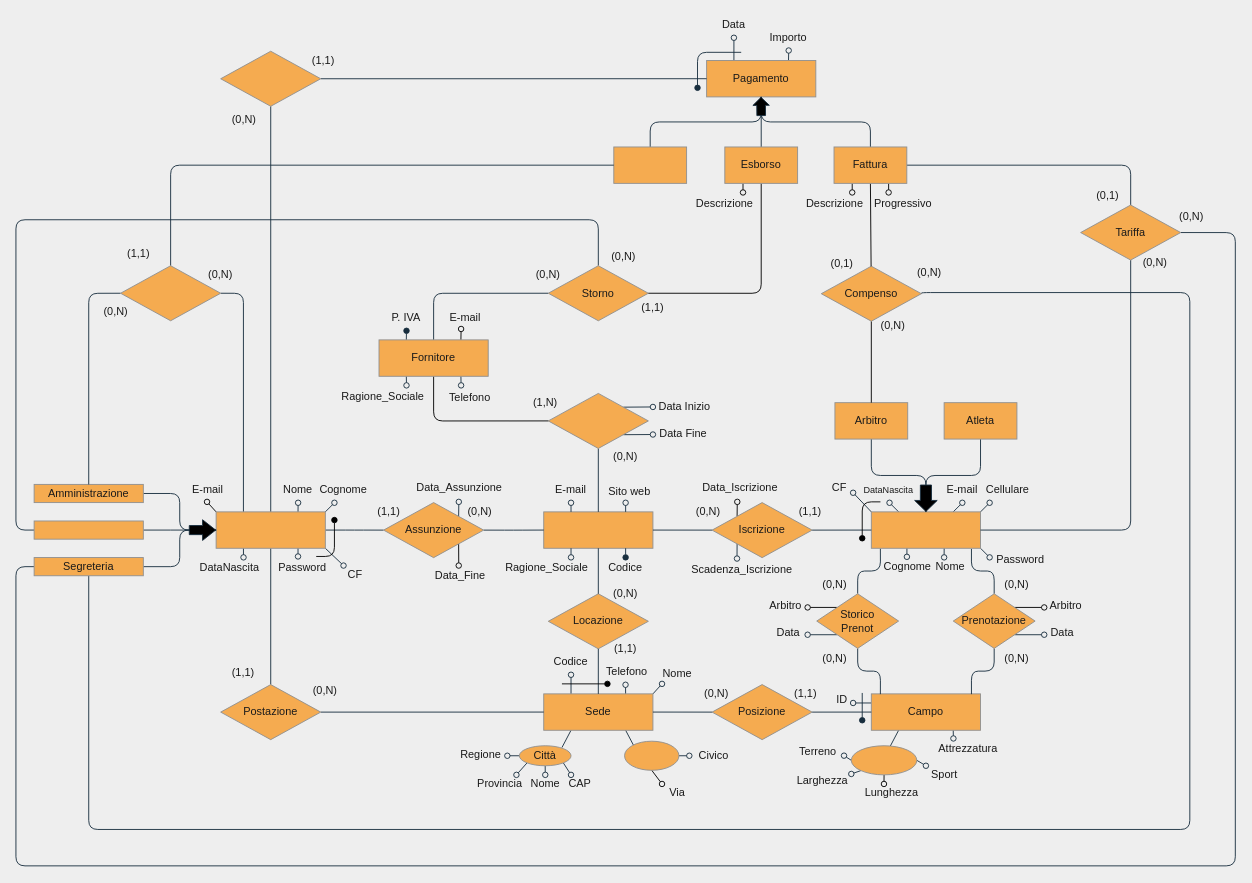
Image size: 1252x883. Some labels were removed from this diagram. The shapes that lost their labels are listed below. From the top down, each one's centre as x and y in pixels, then its label:
the point at 270,78: Gestione
the point at 650,164: Stipendio
the point at 170,293: Ricezione
the point at 597,420: Contratto
the point at 88,529: Responsabile
the point at 270,529: Dipendente
the point at 598,529: Associazione
the point at 925,529: Tesserato
the point at 651,755: Indirizzo
the point at 883,760: Tipologia
